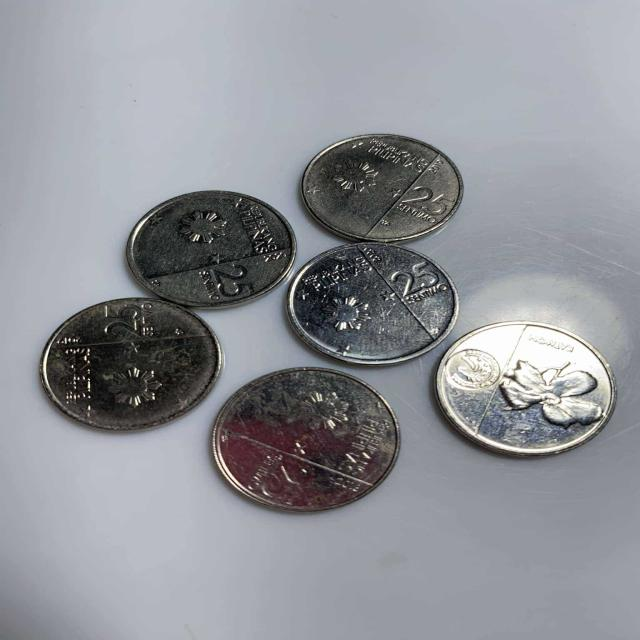25Cent_New_Back: (442, 324, 612, 459)
25Cent_New_Front: (246, 459, 309, 498), (98, 303, 152, 343), (388, 260, 442, 297), (404, 184, 454, 215), (214, 264, 256, 300)
